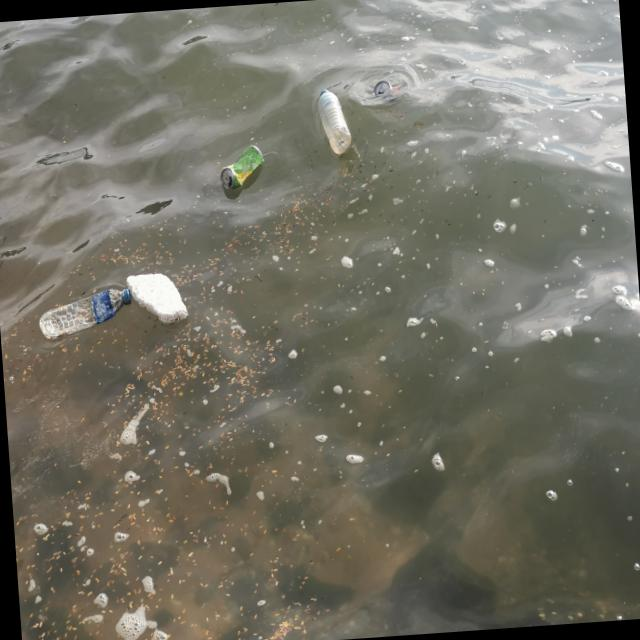can: (220, 140, 266, 190), (374, 80, 396, 101)
foam: (125, 272, 188, 326)
plastic: (37, 286, 132, 344), (315, 87, 352, 157)
